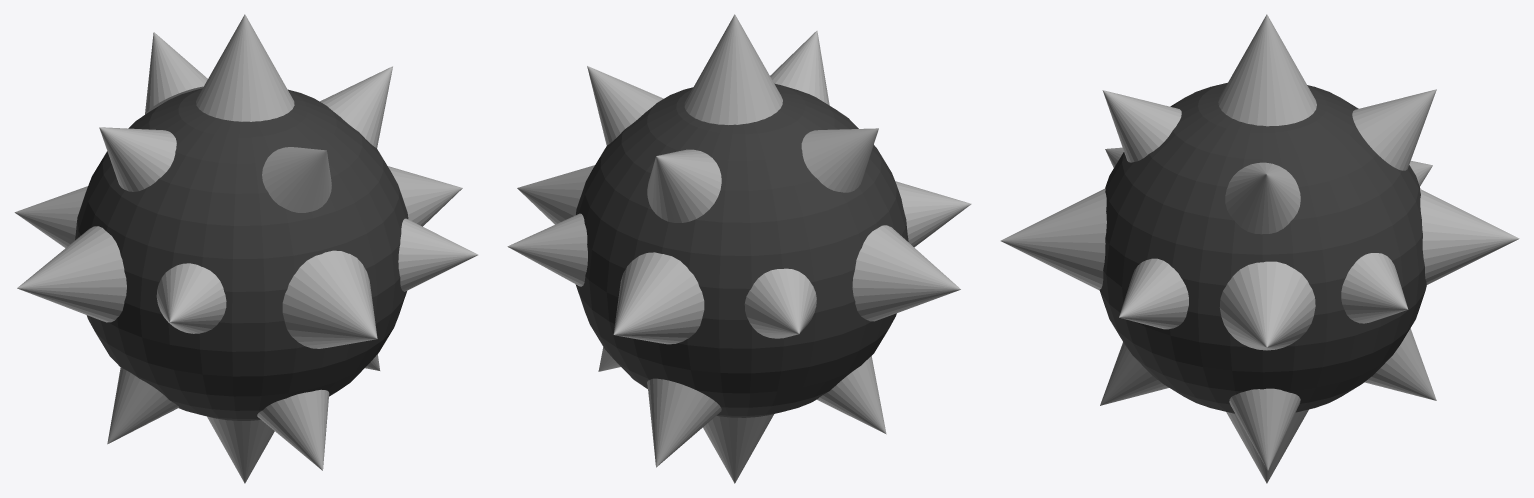
File: arbolparajuego.fbx
3 renders of one model, left to right at view 1: azimuth 30°, elevation 25°; view 2: azimuth 150°, elevation 25°; view 3: azimuth 270°, elevation 25°, orthographic.
Parts seen in each view (by area): view 1: pelota, pinches; view 2: pelota, pinches; view 3: pelota, pinches.
Boxes of the visible parts, x1,y1,x2,y2 form: pelota: [75, 88, 408, 420]; pinches: [14, 14, 478, 483]; pelota: [575, 83, 908, 417]; pinches: [507, 14, 971, 483]; pelota: [1099, 82, 1426, 413]; pinches: [1000, 14, 1519, 483].
Bounding box in the file's own units: 212 × 214 × 215.
Materials: 1 (1 with a texture image).
